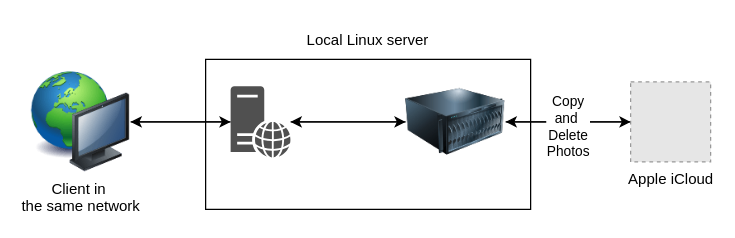
The diagram is 735 pixels wide and 238 high, and some of its shapes have lost their labels. Grey dashed boxes stand in for pictures. Here are the shapes that lost their labels. From the top down, the centre of each, then its label:
pixel 260 121: Web server
pixel 455 121: Server
